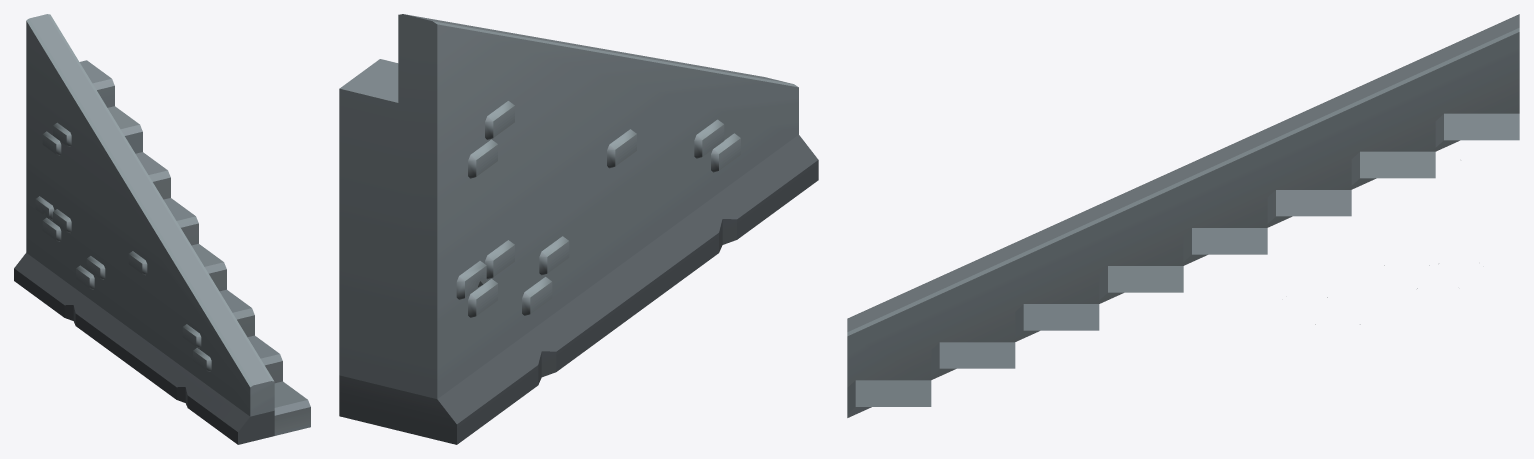
Rendered from stairs_long_modular_left.glb.
3 views of the same model, side by side, from view 1: azimuth 30°, elevation 25°; view 2: azimuth 150°, elevation 25°; view 3: azimuth 270°, elevation 25° (orthographic). The views are drawn at different scales.
Visible parts, largest first — view 1: stairs_long_modular_left; view 2: stairs_long_modular_left; view 3: stairs_long_modular_left.
Boxes of the visible parts, x1,y1,x2,y2 form: stairs_long_modular_left: (14,14,310,444); stairs_long_modular_left: (339,14,818,444); stairs_long_modular_left: (847,14,1519,417).
Size of the model in its own units: 1.5 by 5.1 by 8.
1 material, 1 textured.
